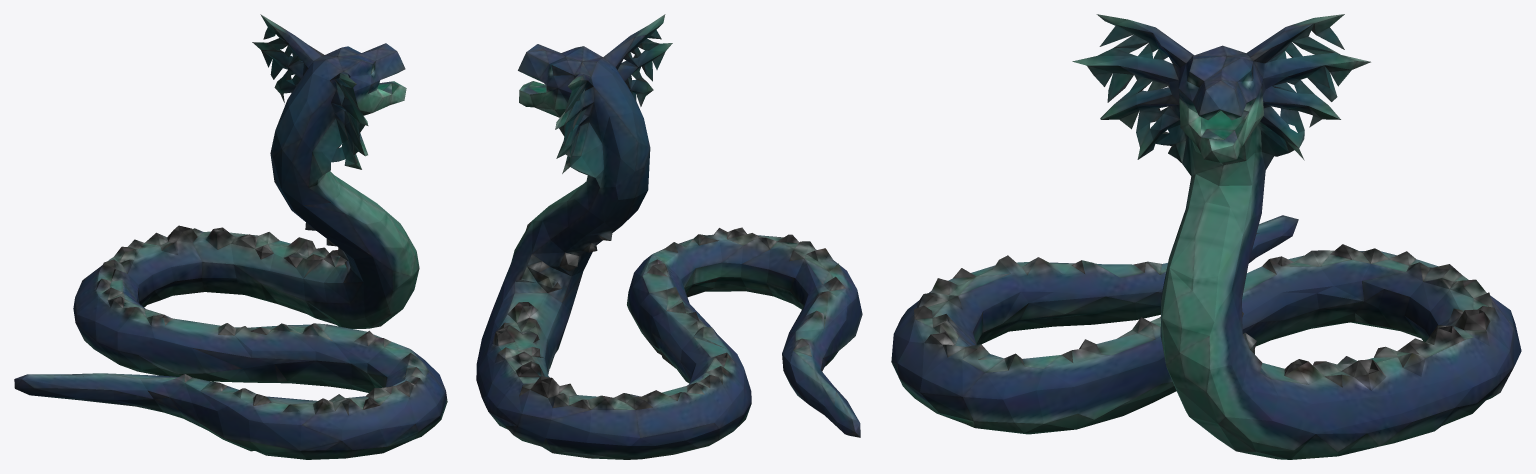
File: foe_brineSerpent.glb
3 views of the same model, side by side, from view 1: azimuth 30°, elevation 25°; view 2: azimuth 150°, elevation 25°; view 3: azimuth 270°, elevation 25° (orthographic). The views are drawn at different scales.
Parts seen in each view (by area): view 1: tripo_node_fb662d74-b47d-4826-9534-98be53cdf752.001; view 2: tripo_node_fb662d74-b47d-4826-9534-98be53cdf752.001; view 3: tripo_node_fb662d74-b47d-4826-9534-98be53cdf752.001.
Boxes of the visible parts, <box> form: tripo_node_fb662d74-b47d-4826-9534-98be53cdf752.001: <box>14,14,447,459</box>; tripo_node_fb662d74-b47d-4826-9534-98be53cdf752.001: <box>476,14,862,459</box>; tripo_node_fb662d74-b47d-4826-9534-98be53cdf752.001: <box>891,14,1521,459</box>.
Size of the model in its own units: 0.8865 by 0.6963 by 0.9986.
1 material, 1 textured.
